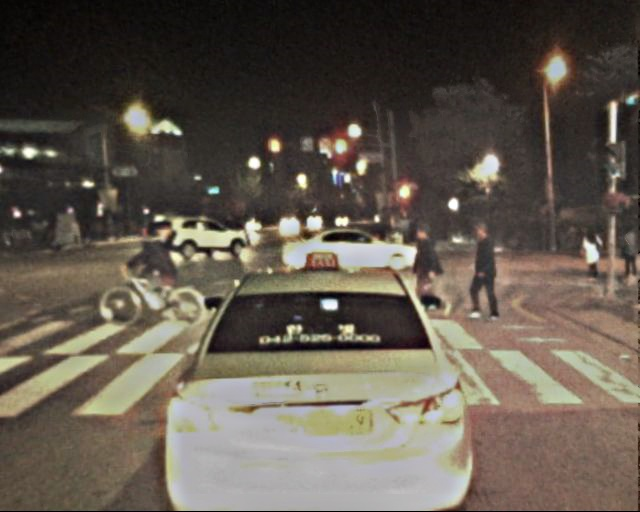person: (465, 223, 506, 324), (411, 225, 451, 322), (135, 226, 172, 316), (578, 225, 605, 291), (614, 226, 639, 288)
